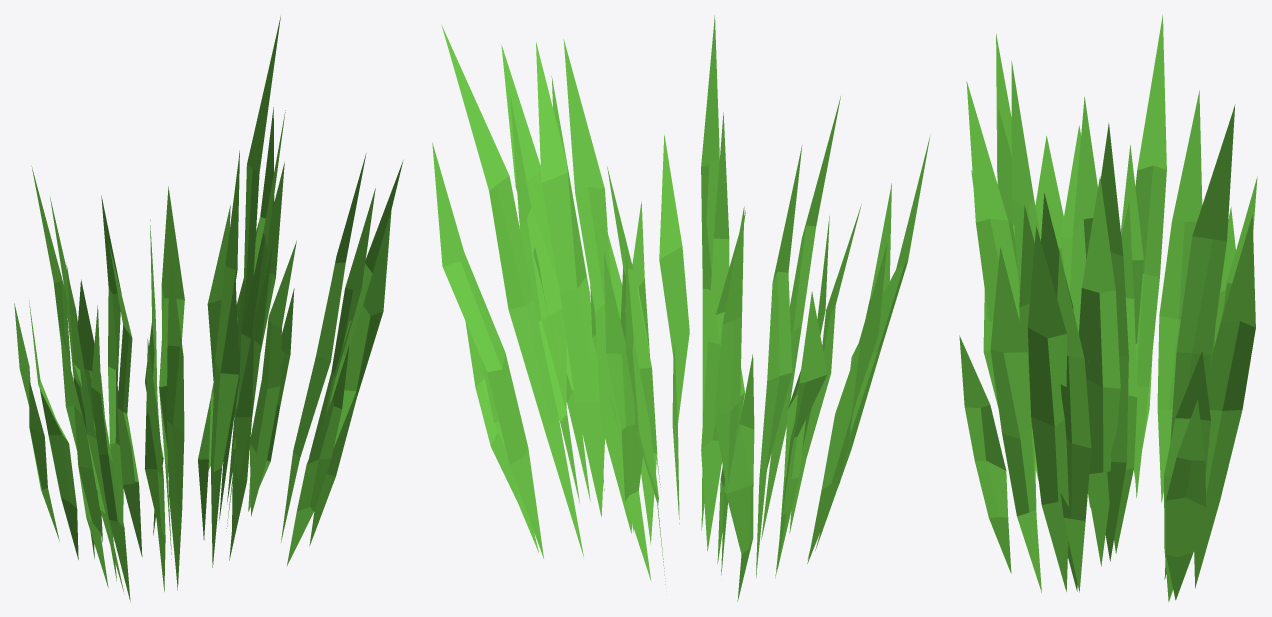
Rendered from grass.002.fbx.
3 views of the same model, side by side, from view 1: azimuth 30°, elevation 25°; view 2: azimuth 150°, elevation 25°; view 3: azimuth 270°, elevation 25° (orthographic). The views are drawn at different scales.
Parts seen in each view (by area): view 1: Plane; view 2: Plane; view 3: Plane.
Boxes of the visible parts, <box> form: Plane: <box>14,16,403,602</box>; Plane: <box>432,15,930,601</box>; Plane: <box>959,14,1257,602</box>.
Size of the model in its own units: 3.49 by 4.42 by 2.23.
